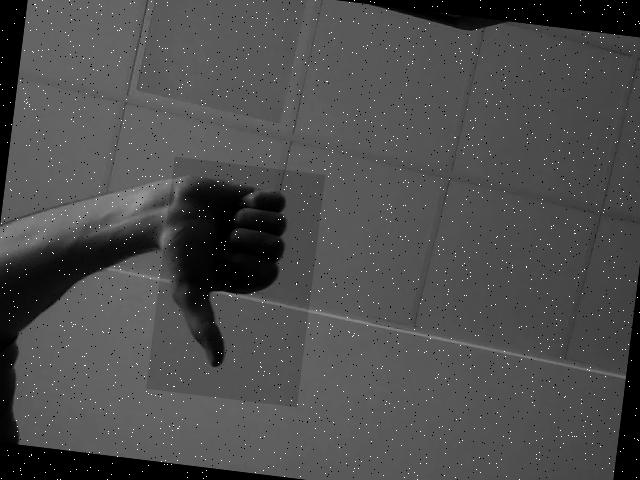bad: (146, 156, 325, 408)
